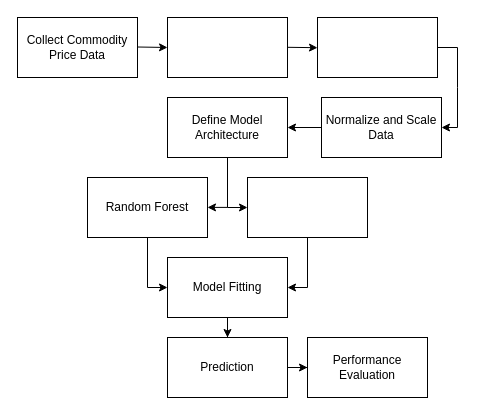
Some shapes in this 483 by 415 pixel diagram are drawn without their labels. The shapes that lost their labels are listed below. From the top down, each one's centre as x and y in pixels, then its label:
At [227,47]: "Engineer Features and Targets".
At [377,47]: "Define Train-Test Split".
At [307,207]: "LSTM".
